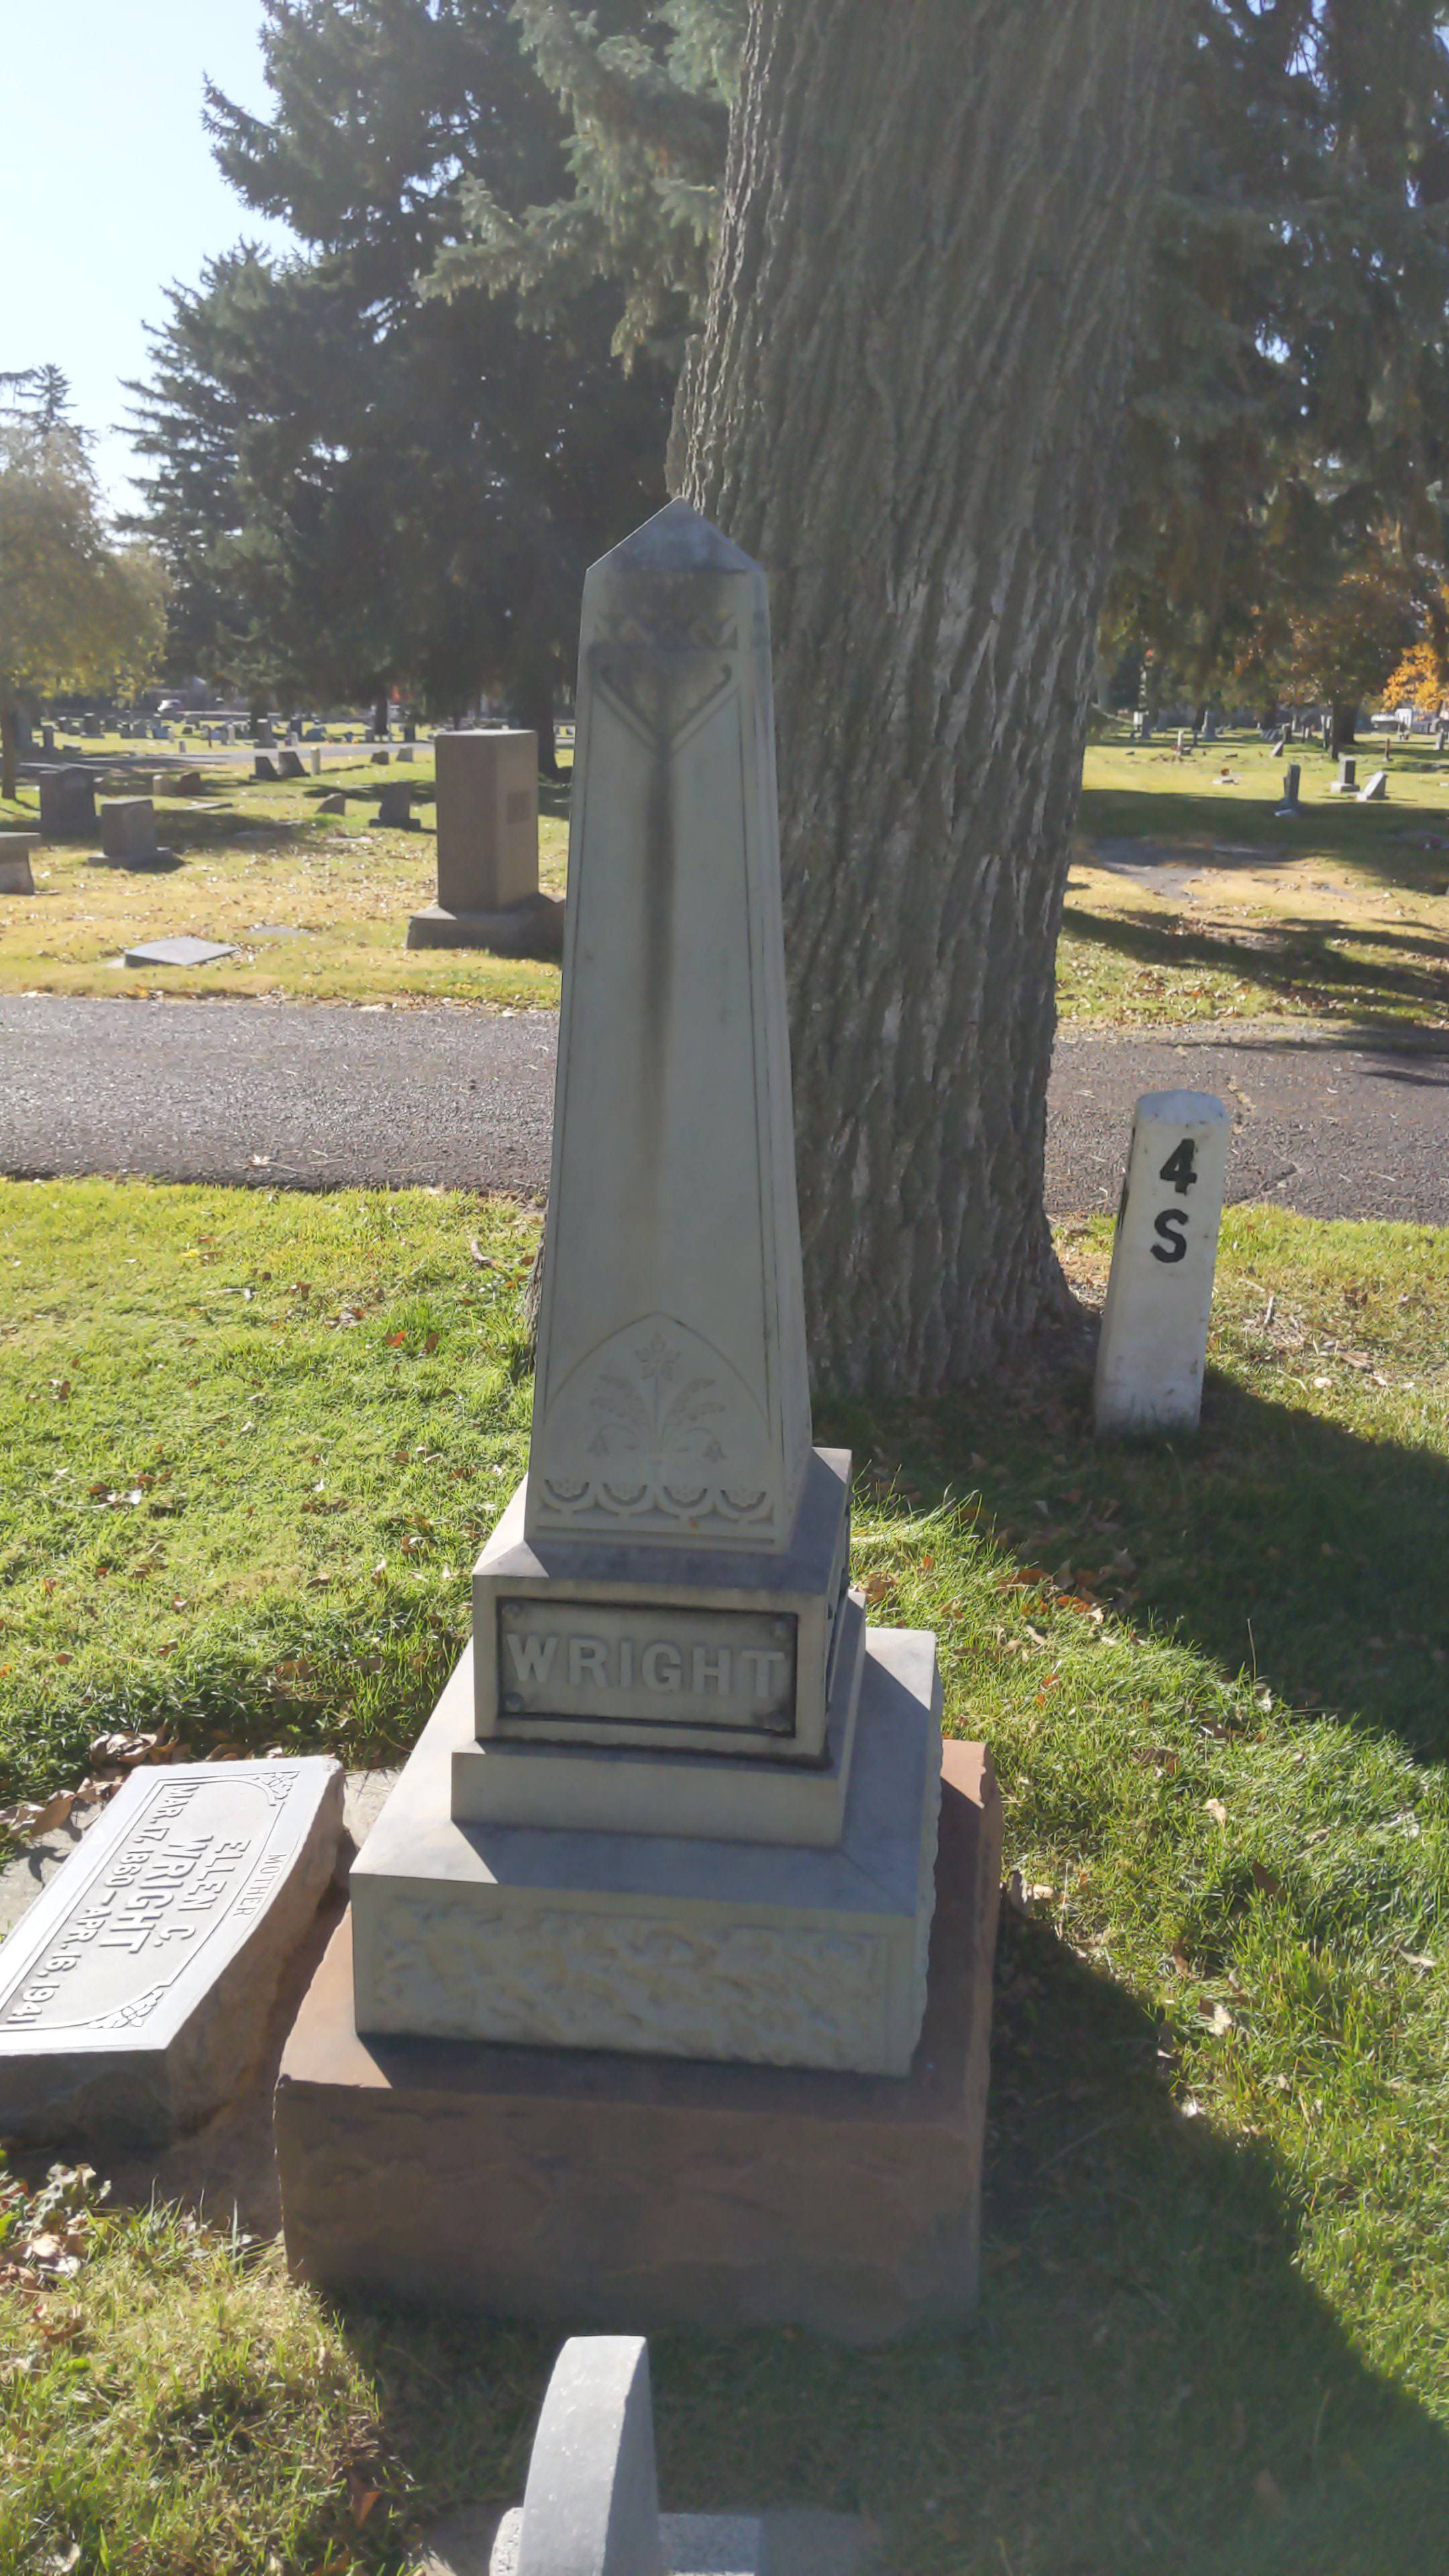obelisk: (442, 510, 853, 1844)
